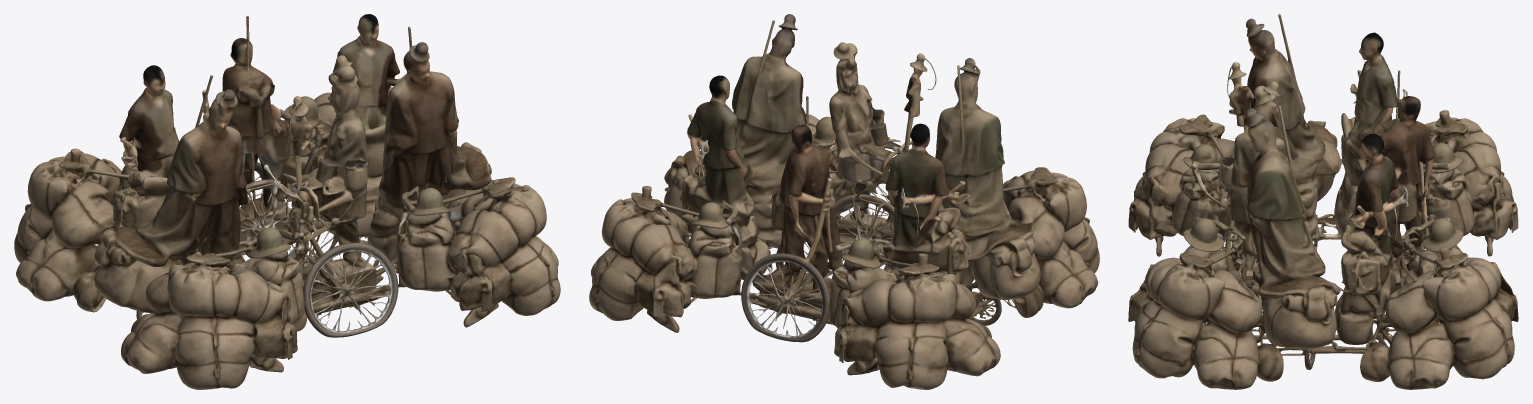
File: xe_dap_tho.glb
The picture shows the model from 3 angles, left to right: view 1: azimuth 30°, elevation 25°; view 2: azimuth 150°, elevation 25°; view 3: azimuth 270°, elevation 25°; orthographic projection. The views are drawn at different scales.
Bounding box in the file's own units: 1.9 × 1.1 × 1.59.
Materials: 1 (1 with a texture image).
